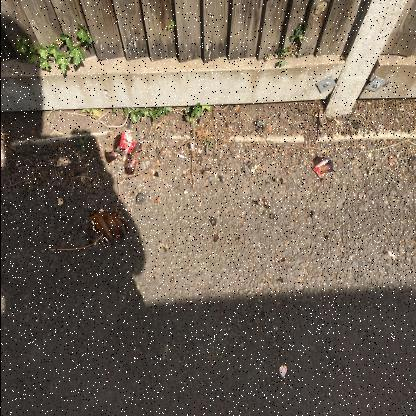glass: (87, 208, 129, 247), (103, 132, 141, 175), (311, 155, 333, 177)
